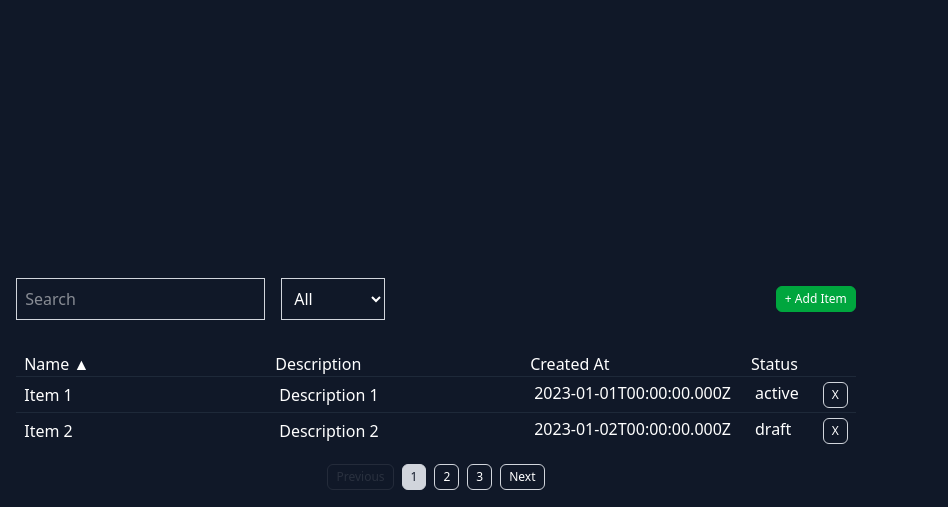
Scenario: PaginatedList Component - Optimistic Updates and Pagination › should handle item save failure
The image size is (948, 507).
// Edit an item
Step 1. Replace the text in the 1st field showing "Item 1" with "Updated Item 1" → [140, 394], box [16, 381, 263, 408]
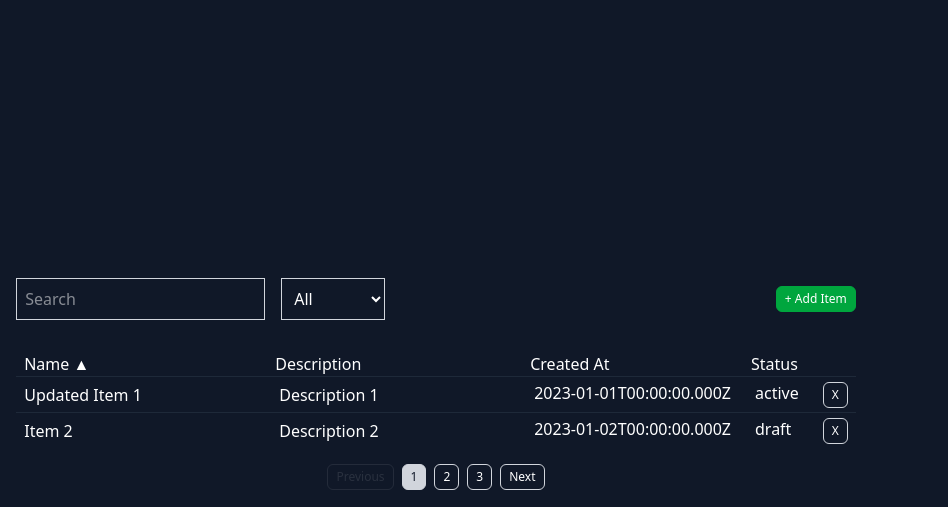
Step 2. Press Enter in the 1st field showing "Item 1", box [16, 381, 263, 408]
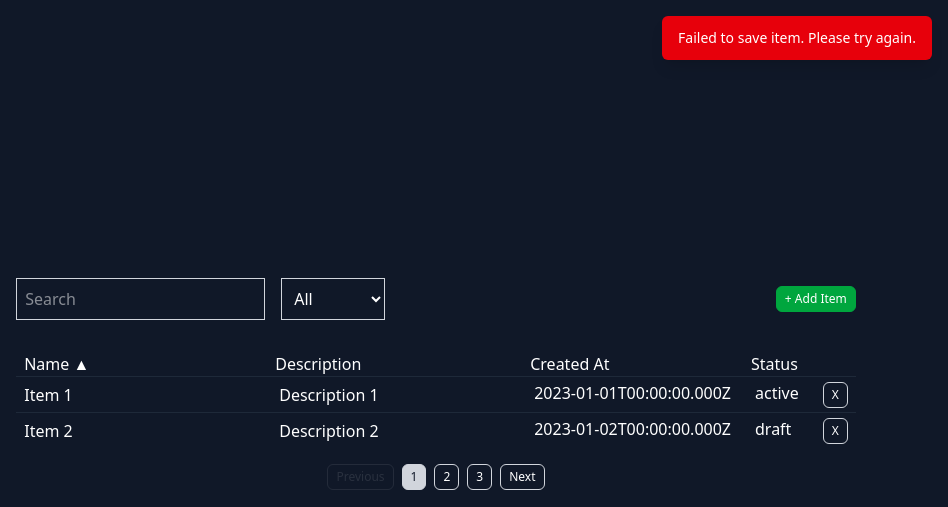
Now the text "Failed to save item. Please try again." is shown, box [662, 16, 932, 60]
